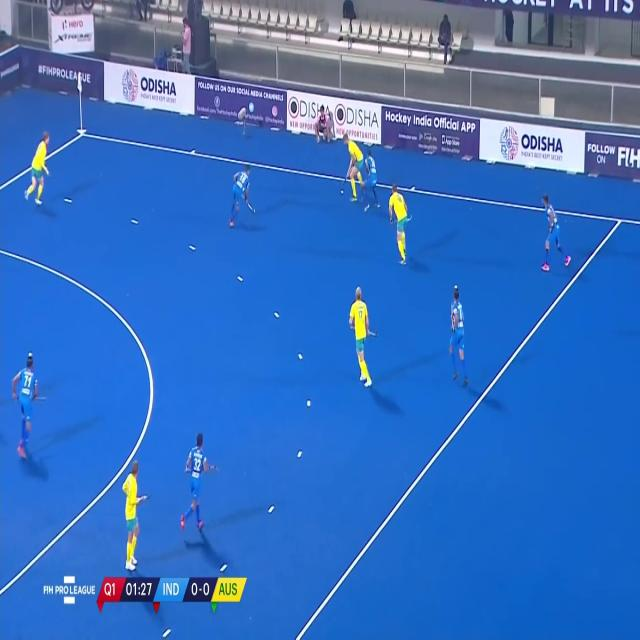ball: (340, 188, 345, 195)
